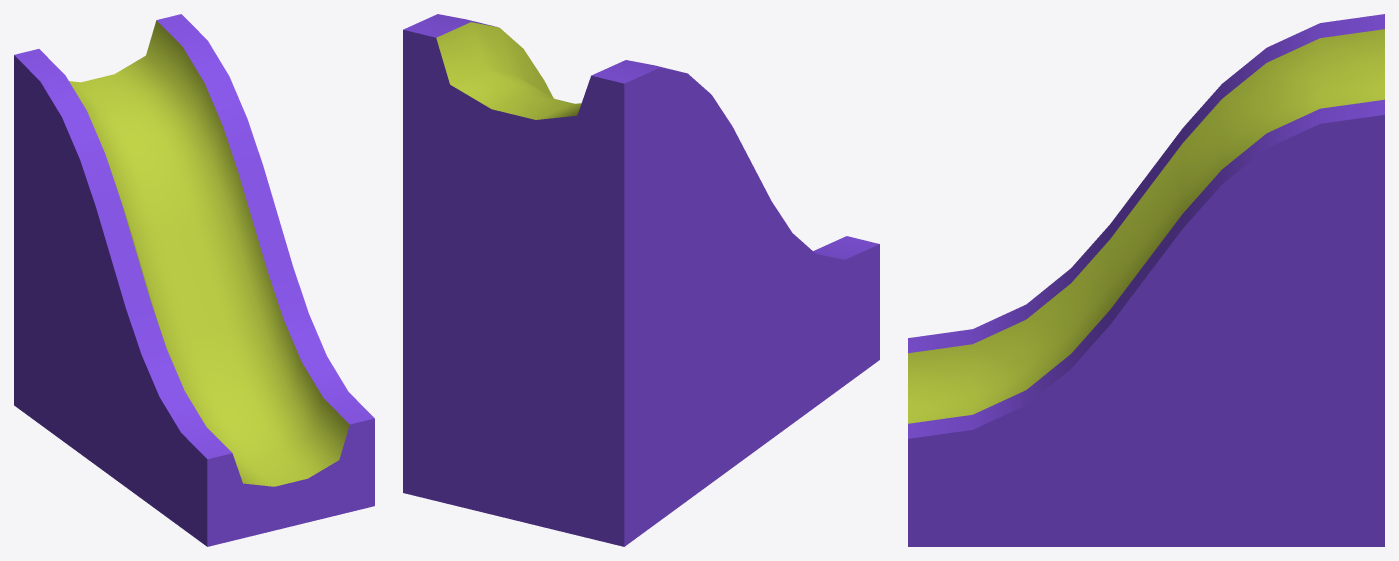
Rendered from ramp_long_solid_D-col.dae.
The picture shows the model from 3 angles, left to right: view 1: azimuth 30°, elevation 25°; view 2: azimuth 150°, elevation 25°; view 3: azimuth 270°, elevation 25°; orthographic projection. The views are drawn at different scales.
Parts seen in each view (by area): view 1: ramp_long_solid_D-col; view 2: ramp_long_solid_D-col; view 3: ramp_long_solid_D-col.
Boxes of the visible parts, x1=… form: ramp_long_solid_D-col: x1=14, y1=14, x2=374, y2=546; ramp_long_solid_D-col: x1=403, y1=14, x2=879, y2=546; ramp_long_solid_D-col: x1=908, y1=14, x2=1384, y2=546.
Size of the model in its own units: 1 by 2 by 2.
